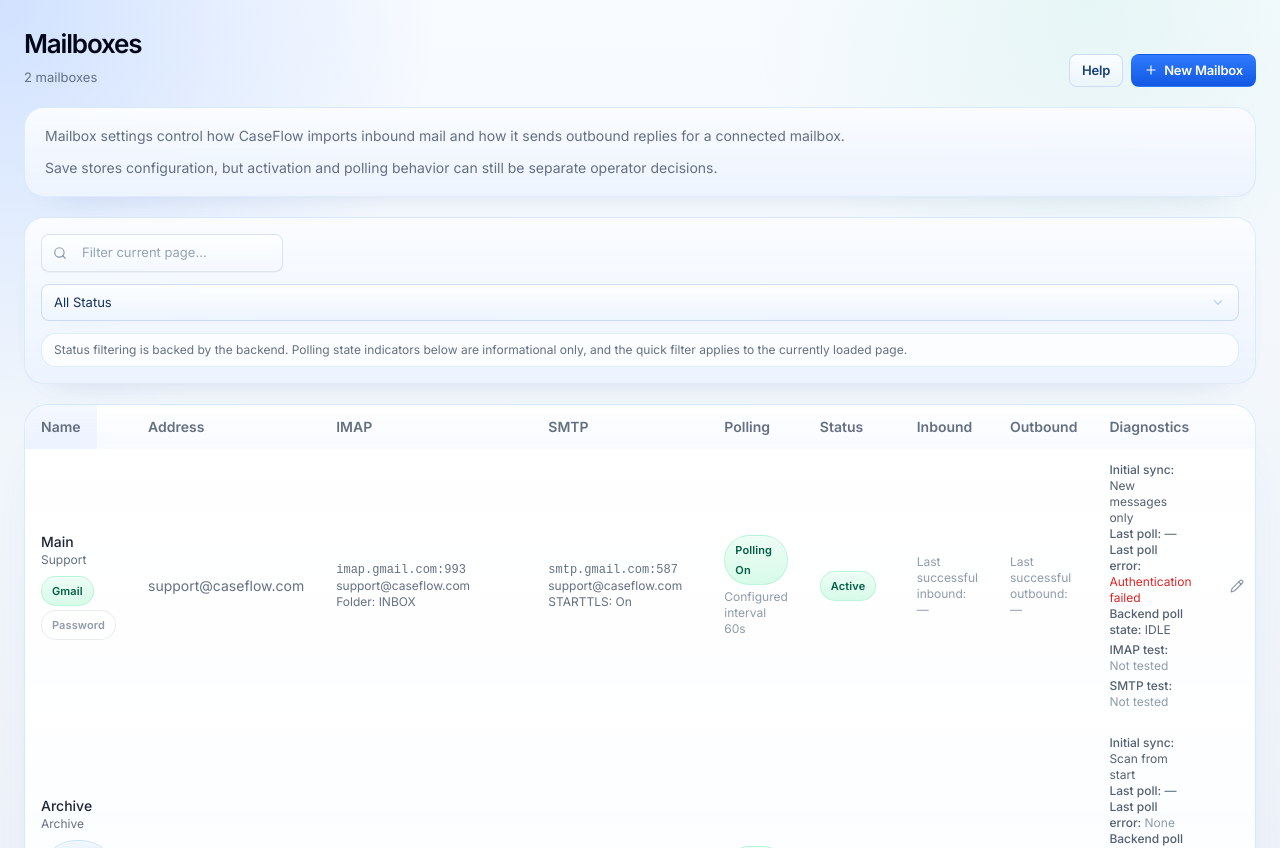
Test case: MailboxManagementPage › defaults the mailbox form to Other IMAP with password auth
This screenshot has width=1280, height=848.
Click the button "New Mailbox" at (1194, 70), box [1131,54,1256,87]
(page scrolled)
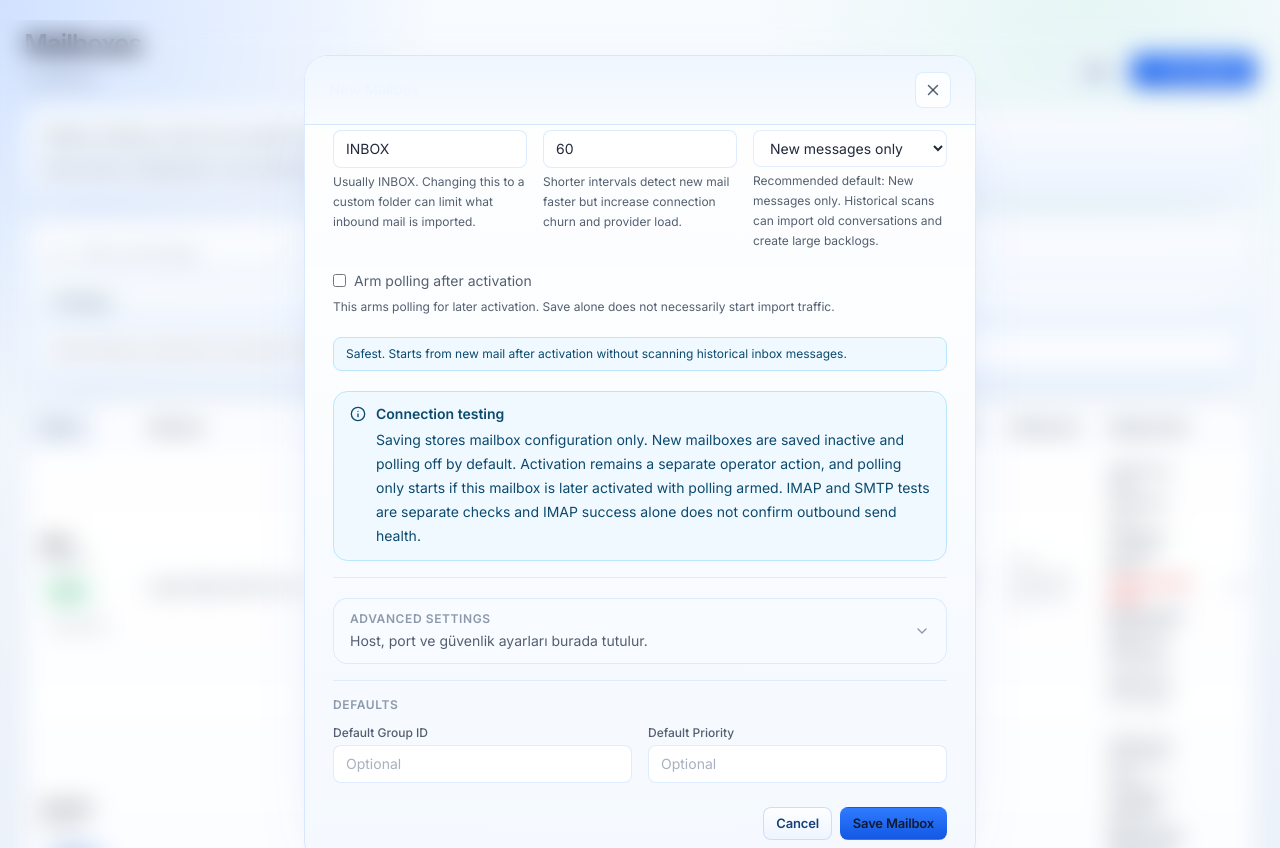
expect the checkbox labelled "Arm polling after activation" is not checked: met, box [333,274,346,287]
expect the button "Save Mailbox" is shown: met, box [840,806,947,840]
